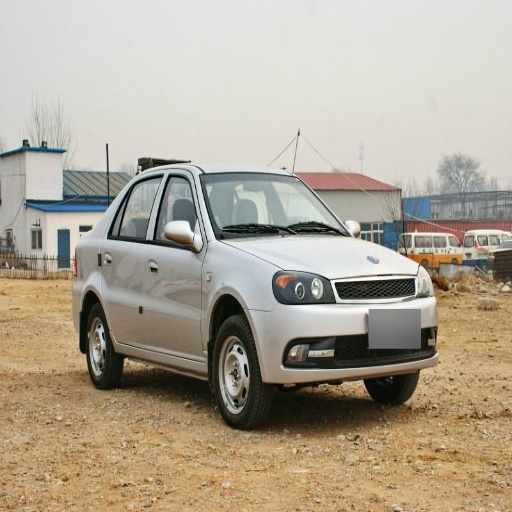front_bumper: (252, 275, 436, 385)
front_right_door: (144, 171, 203, 359)
front_right_light: (274, 270, 329, 303)
